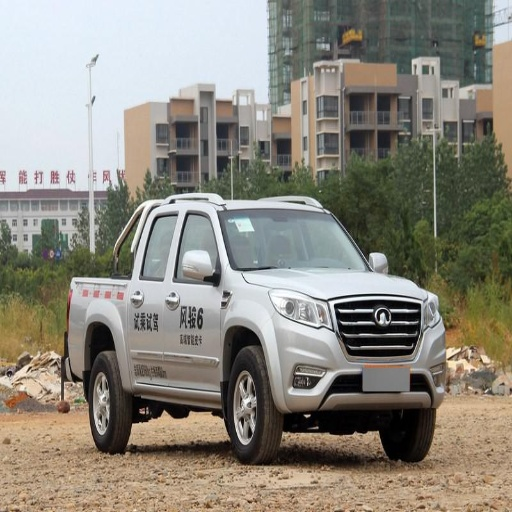front_bumper: (265, 295, 448, 413)
front_right_door: (165, 206, 222, 388)
front_right_light: (271, 291, 330, 326)
hood: (244, 271, 425, 298)
trunk: (44, 279, 126, 371)
